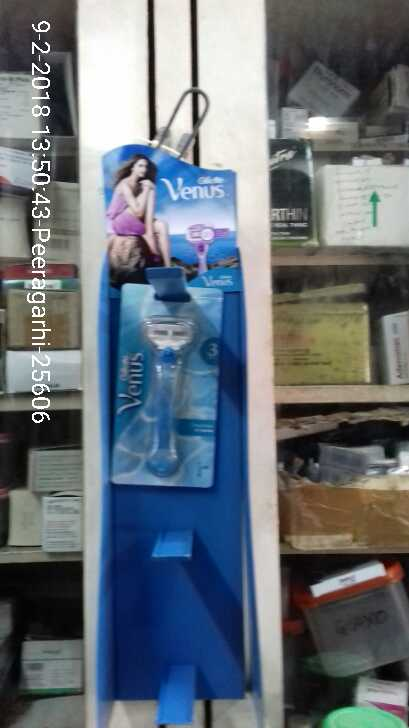venus: (117, 290, 222, 486)
